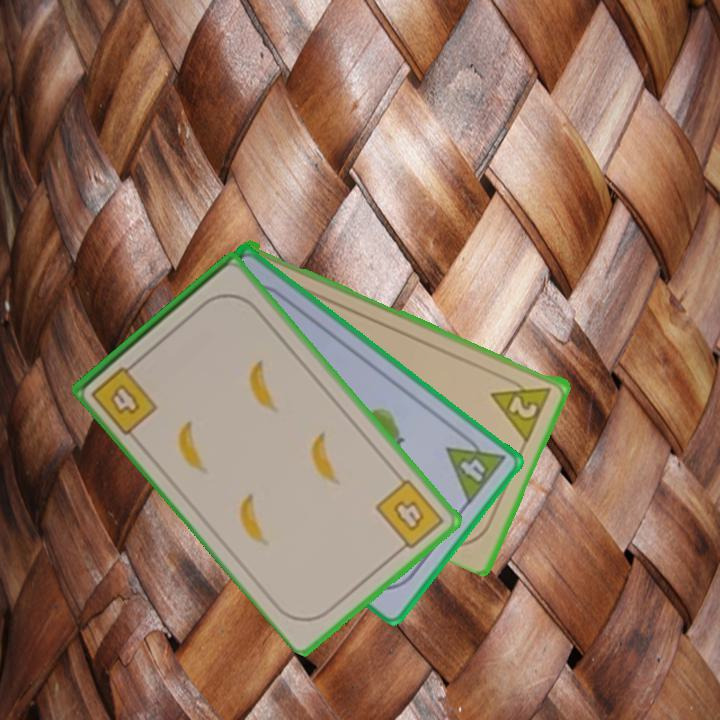2p: (488, 373, 556, 443)
4b: (371, 475, 447, 556), (87, 356, 161, 437)
4p: (443, 427, 509, 507)
